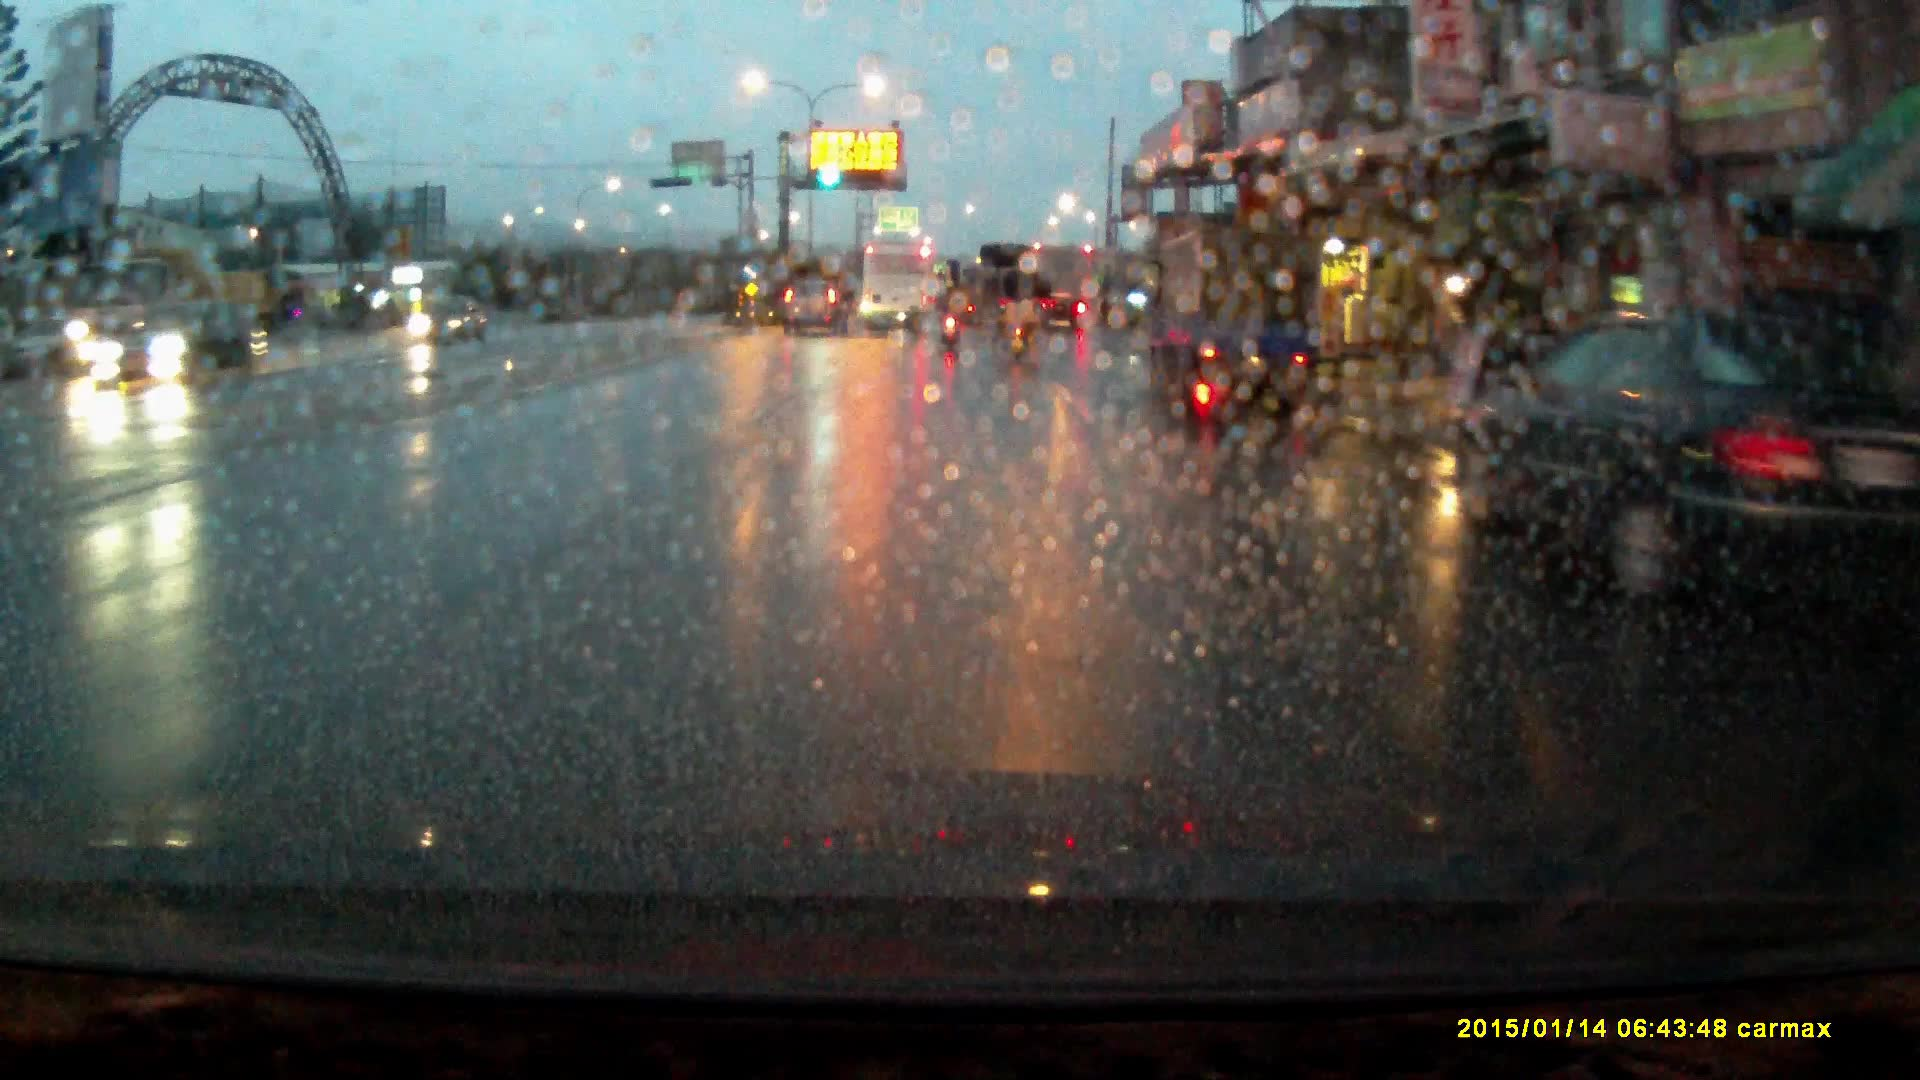rider: (1000, 276, 1038, 360), (933, 274, 966, 341)
vehicle: (1448, 303, 1900, 608), (1142, 223, 1324, 398), (64, 248, 284, 367), (104, 309, 255, 396), (861, 240, 932, 331), (980, 244, 1048, 333), (404, 294, 487, 349), (783, 269, 849, 330)
